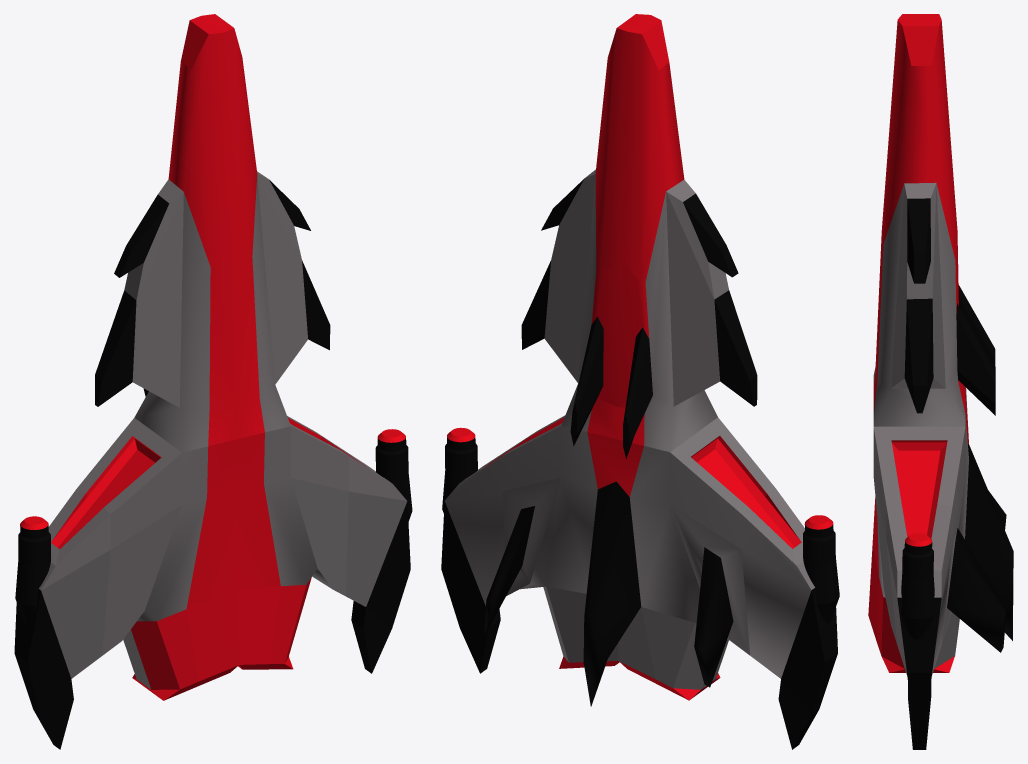
Rendered from Enemy_6.fbx.
3 renders of one model, left to right at view 1: azimuth 30°, elevation 25°; view 2: azimuth 150°, elevation 25°; view 3: azimuth 270°, elevation 25°, orthographic. The views are drawn at different scales.
Visible parts, largest first — view 1: Cube; view 2: Cube; view 3: Cube.
Part boxes in pixels (box(x1,y1,x2,y2)): Cube: box(14, 14, 412, 749); Cube: box(441, 14, 839, 749); Cube: box(868, 14, 1013, 749).
Size of the model in its own units: 646 by 1079 by 216.
